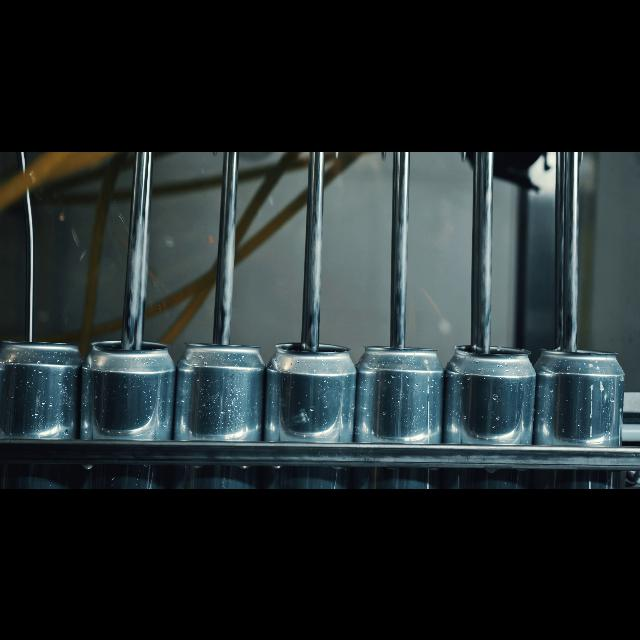empty: (88, 326, 174, 488), (269, 330, 357, 488), (0, 326, 84, 488), (180, 326, 264, 488), (450, 338, 536, 488), (363, 332, 445, 488), (542, 338, 626, 488)
